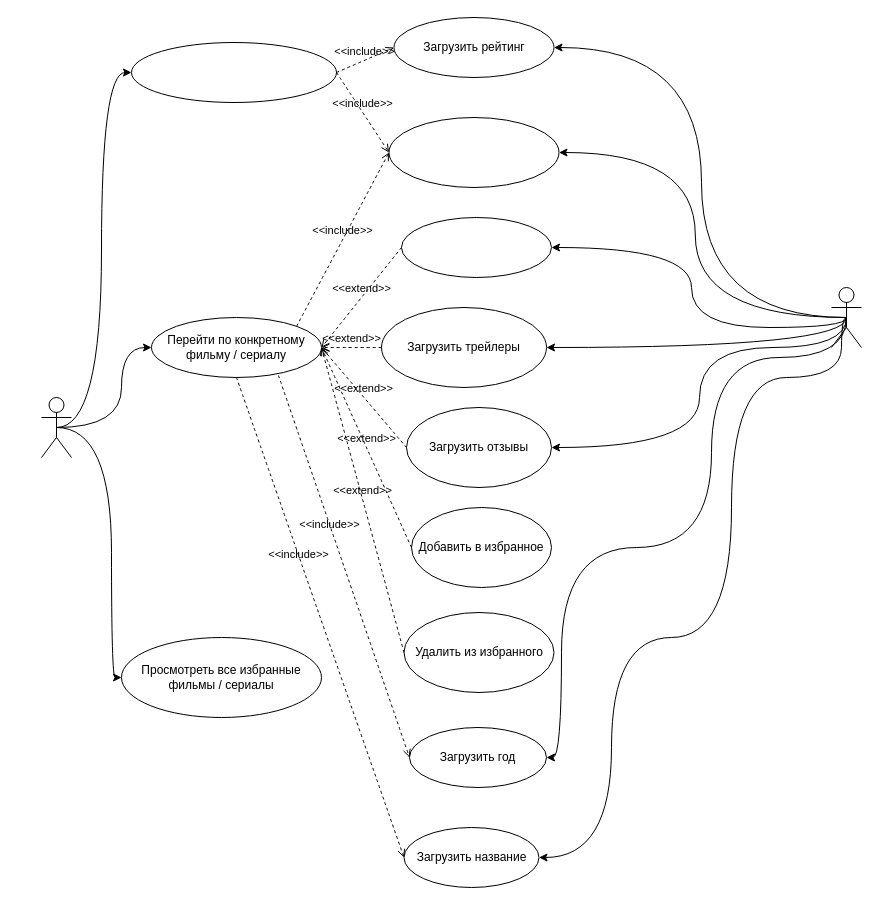
This 891x905 diagram has some shape labels left out. Each missing label, with the box of its shape:
KInopoisk API: (830, 286, 862, 348)
Загрузить описание: (400, 216, 552, 278)
Загрузить постер фильма / сериала: (388, 116, 559, 188)
Пользователь: (40, 396, 72, 458)
Просмотреть список фильмов / сериалов: (130, 42, 336, 102)
